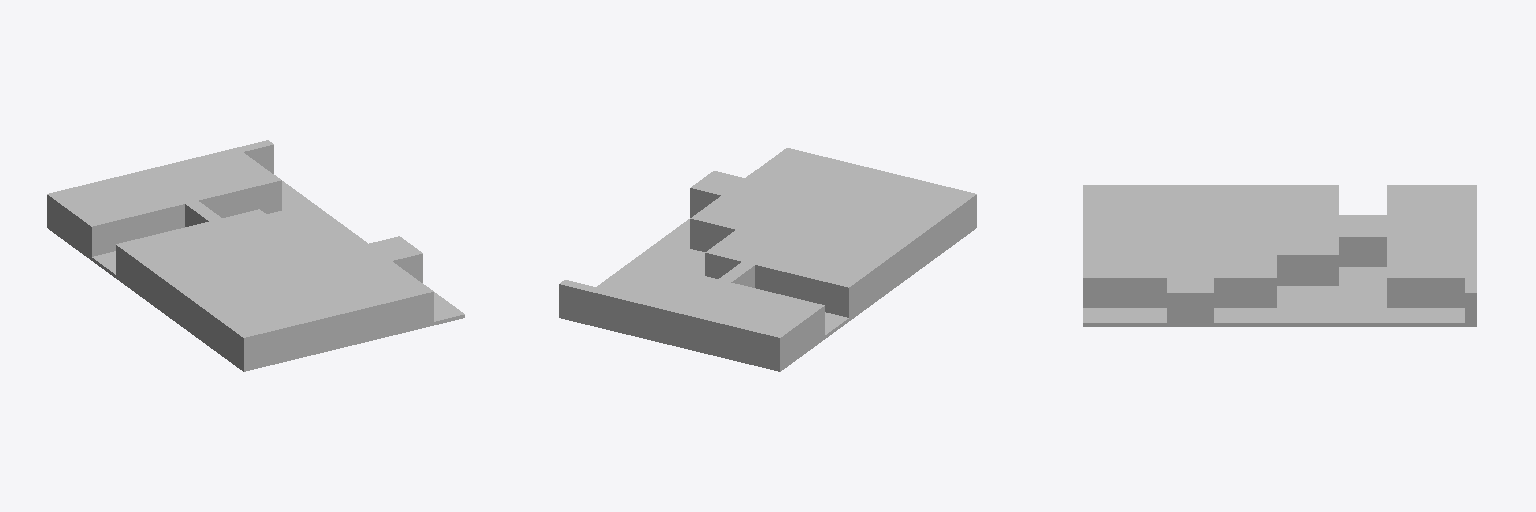
Rendered from mountain.collider.obj.
3 renders of one model, left to right at view 1: azimuth 30°, elevation 25°; view 2: azimuth 150°, elevation 25°; view 3: azimuth 270°, elevation 25°, orthographic.
Visible parts, largest first — view 1: Mountain_Collider_Plane; view 2: Mountain_Collider_Plane; view 3: Mountain_Collider_Plane.
Part boxes in pixels (x1,y1,x2,y2): Mountain_Collider_Plane: (47,140,464,371); Mountain_Collider_Plane: (559,148,976,371); Mountain_Collider_Plane: (1083,185,1476,326).
Size of the model in its own units: 23.24 by 3.4 by 35.77.